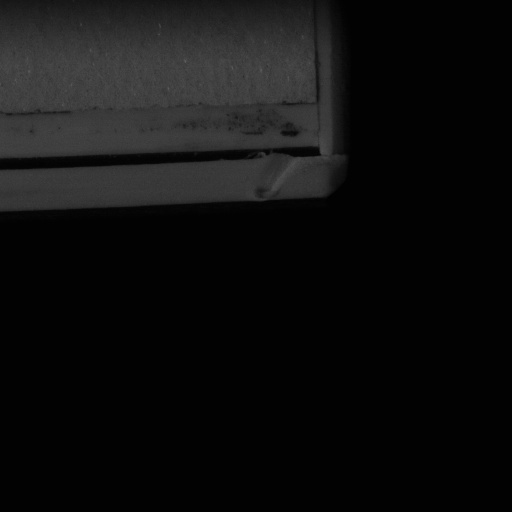kaijiao: (0, 96, 349, 216)
